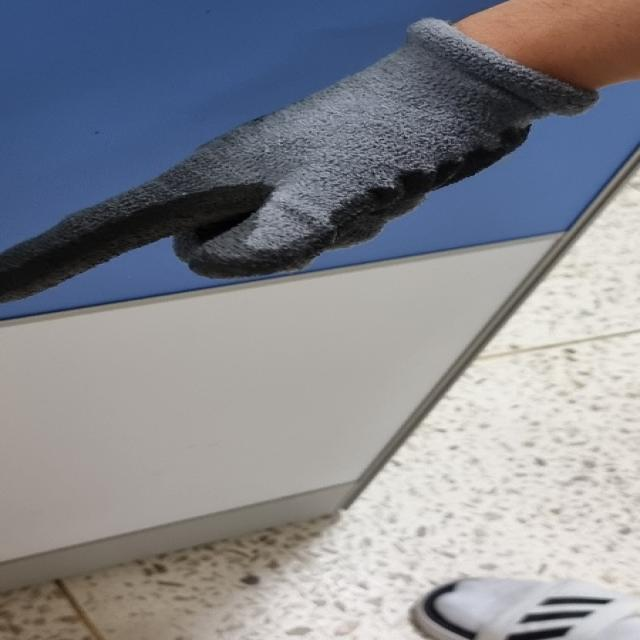Gloves: (0, 14, 599, 313)
